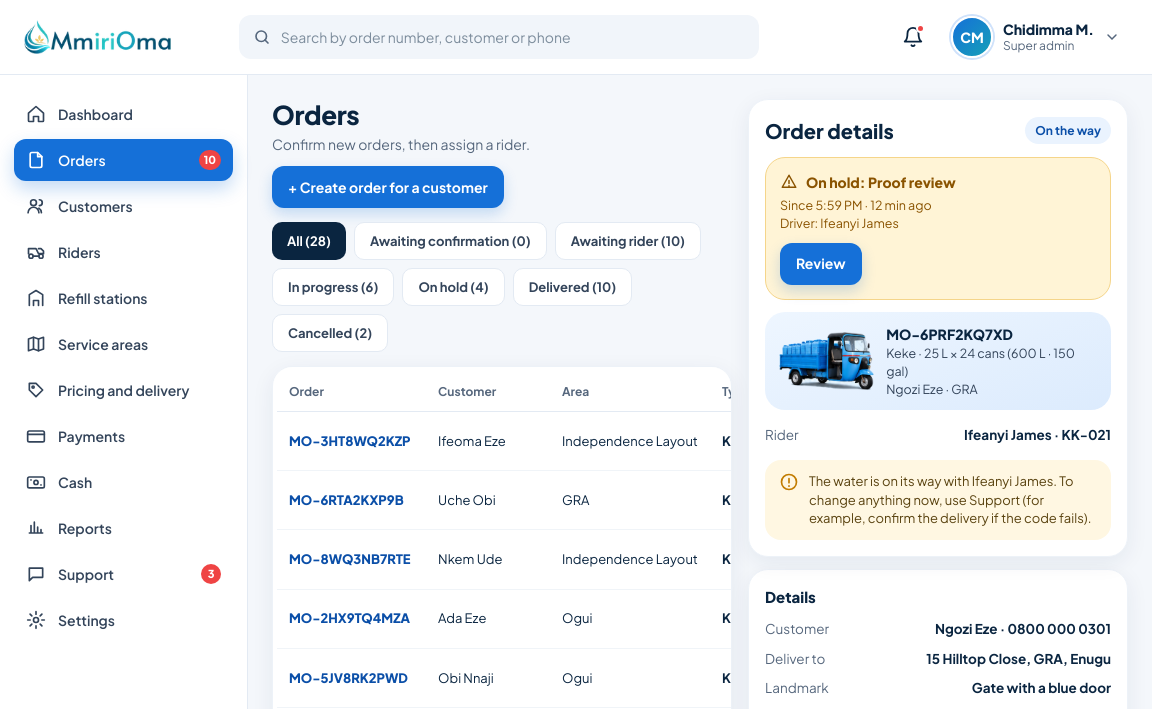
Test: admin pages › opens the review sheet from the banner with the proof evidence, and never shows the code (#166, R1)
Click the button "Review" at (821, 264), box left=780, top=242, right=862, bottom=284
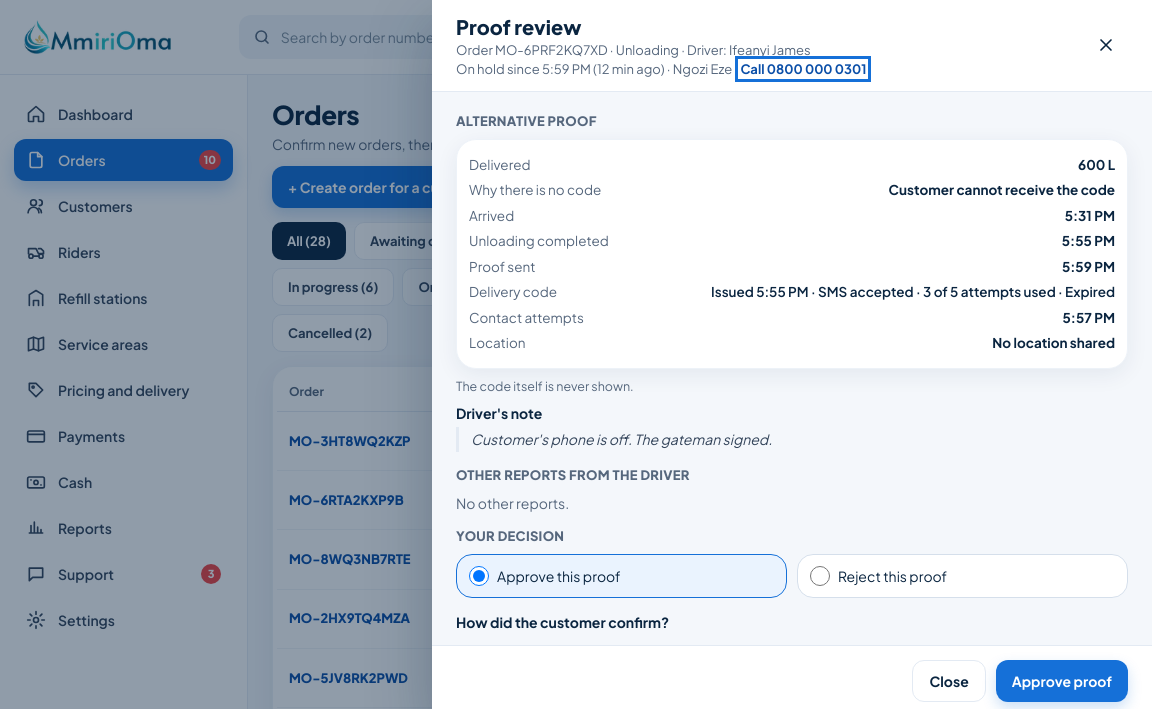
Now the heading "Alternative proof" is shown, box left=456, top=113, right=597, bottom=129
Now the heading "Proof review" is shown, box left=456, top=14, right=581, bottom=39
Now the text "Order MO-6PRF2KQ7XD · Unloading · Driver: Ifeanyi James" is shown, box left=456, top=41, right=866, bottom=79
